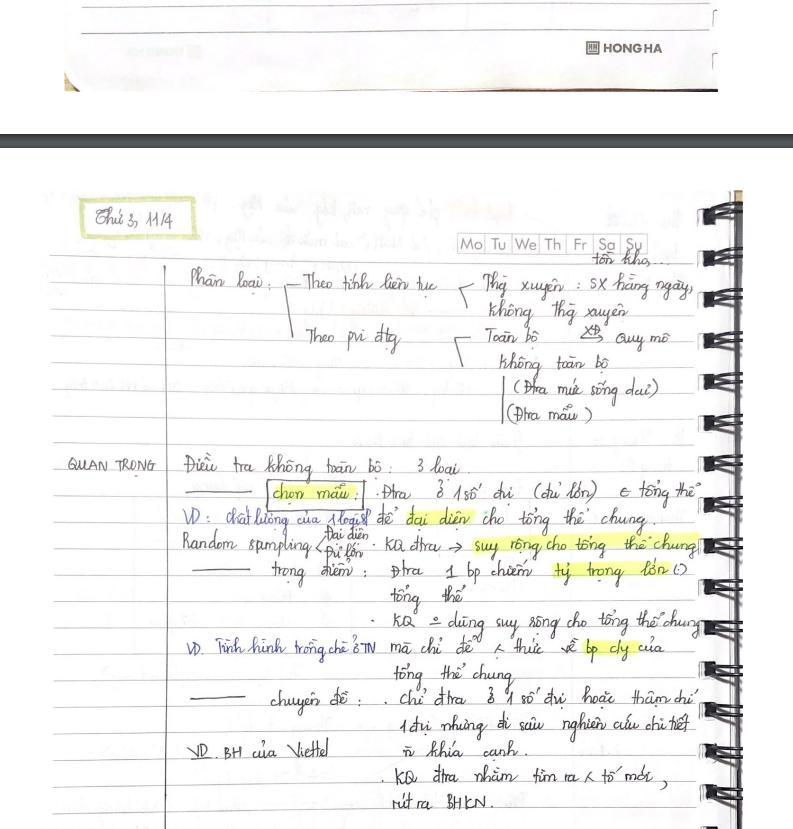text: (175, 524, 701, 562), (184, 631, 667, 666), (267, 681, 705, 718), (267, 553, 690, 589), (180, 503, 650, 535), (389, 607, 703, 642), (184, 449, 464, 487), (377, 476, 705, 508), (395, 709, 694, 744), (389, 759, 674, 792), (475, 268, 696, 302), (512, 375, 661, 407), (298, 268, 440, 301), (182, 735, 333, 765), (391, 660, 519, 695), (484, 296, 630, 326), (301, 320, 404, 358), (496, 350, 611, 379), (576, 324, 675, 355), (457, 235, 645, 251), (399, 738, 529, 761), (385, 582, 467, 615), (186, 265, 273, 295), (62, 453, 160, 479), (501, 402, 593, 427), (388, 790, 494, 810), (90, 204, 178, 228), (270, 481, 353, 504), (480, 324, 543, 349), (589, 251, 650, 268), (600, 40, 666, 55)
